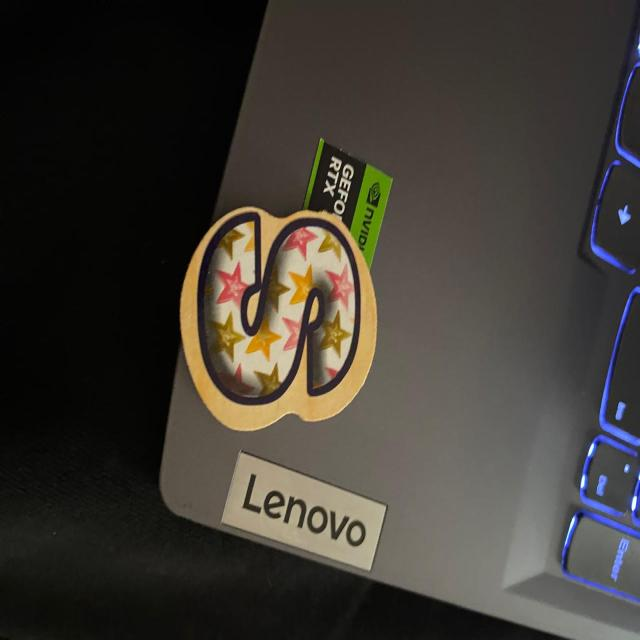S: (180, 207, 376, 430)
